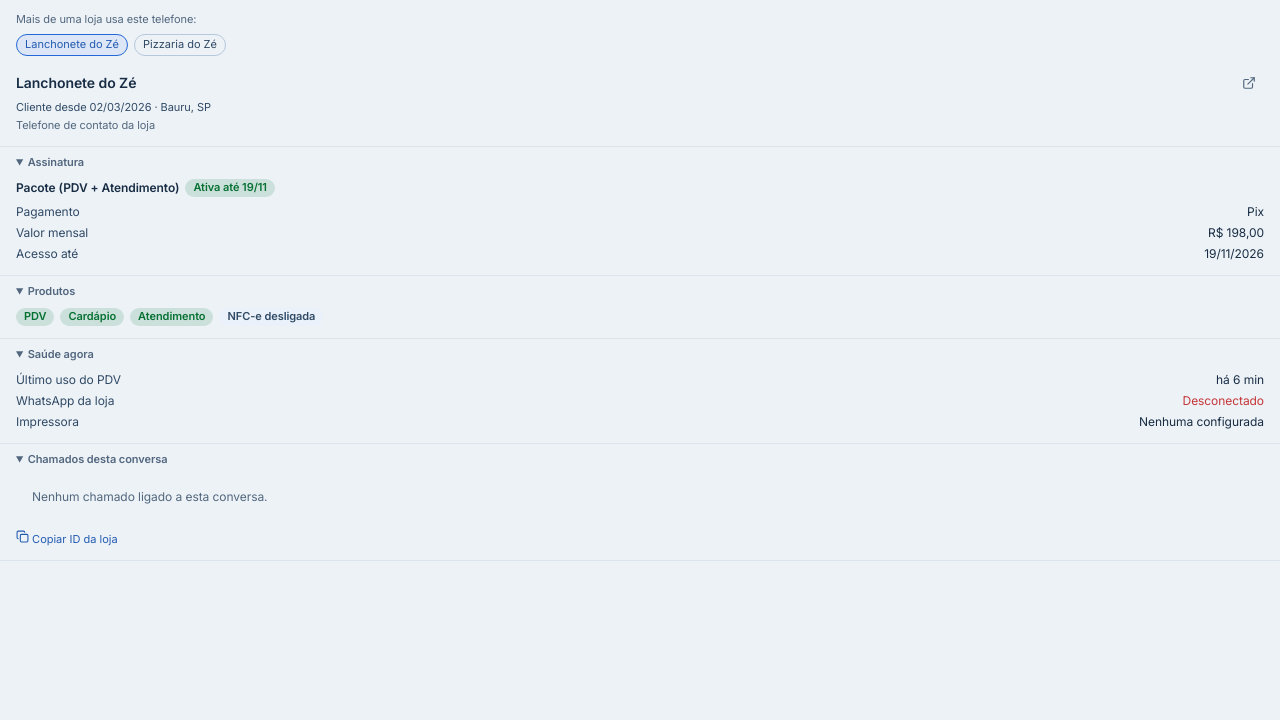
Test case: ZeloCustomerPanel › lets the operator pick between stores that share a phone
Click the button "Pizzaria do Zé". click: (180, 45)
box: x1=134 y1=34 x2=226 y2=56
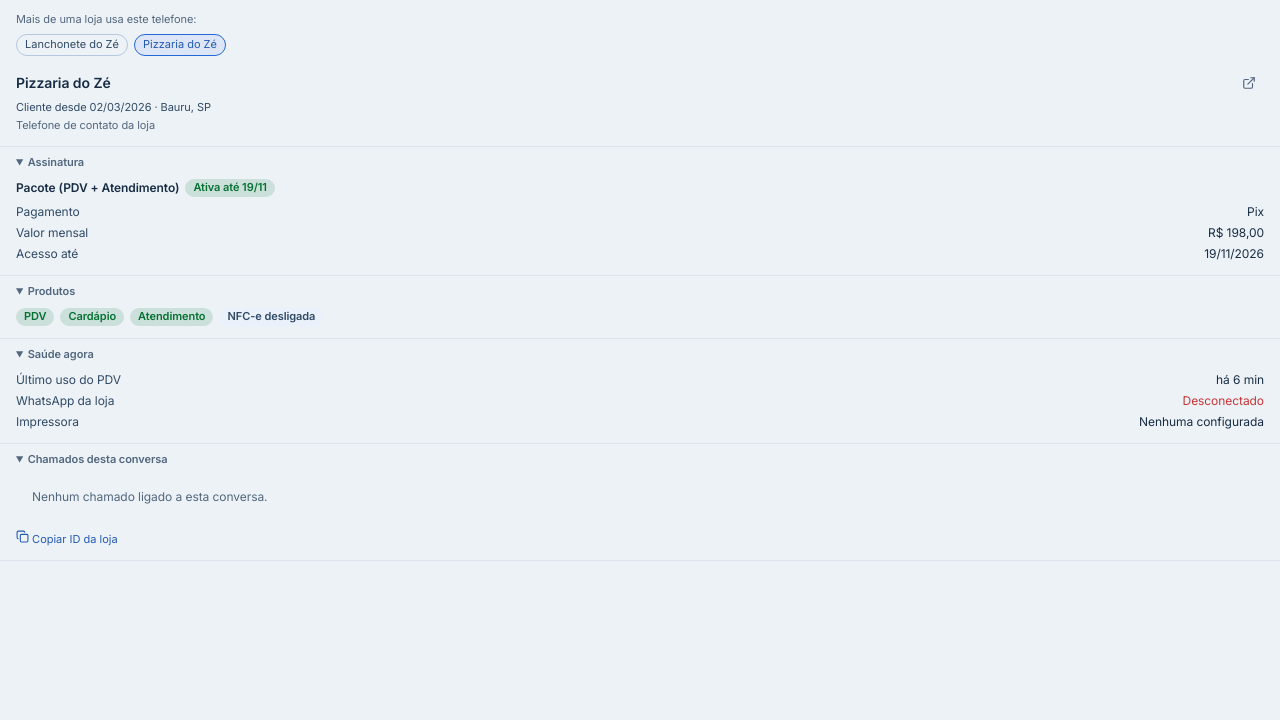
Now the text "Pizzaria do Zé" is shown, box x1=16 y1=73 x2=111 y2=93
